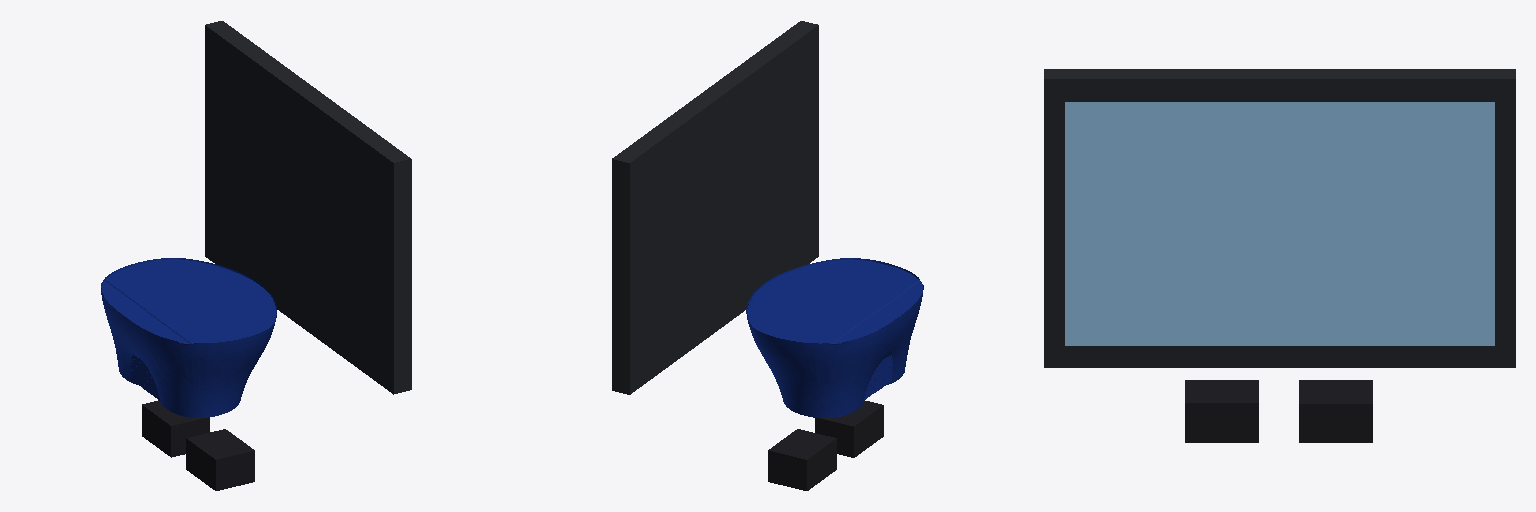
The robot description file, URDF, robot "haetburi":
<?xml version="1.0"?>
<!-- Haetburi biped (v14_xc330_hidden) - generated by tools/build_model.py, do not edit by hand -->
<robot name="haetburi">
  <mujoco>
    <compiler meshdir="." balanceinertia="true" discardvisual="false" strippath="false" fusestatic="false"/>
  </mujoco>
  <material name="display"><color rgba="0.18 0.19 0.21 1"/></material>
  <material name="screen"><color rgba="0.62 0.80 0.95 1"/></material>
  <material name="shell"><color rgba="0.106 0.216 0.541 1"/></material>
  <material name="motor"><color rgba="0.15 0.15 0.17 1"/></material>
  <material name="foot"><color rgba="0.25 0.25 0.28 1"/></material>
  <link name="world"/>
  <joint name="floating_base" type="floating">
    <parent link="world"/><child link="pelvis"/>
    <origin xyz="0 0 0" rpy="0 0 0"/>
  </joint>
  <link name="pelvis">
    <inertial>
      <origin xyz="0.0156311 -5.01055e-05 0.0285884" rpy="0 0 0"/>
      <mass value="0.360675"/>
      <inertia ixx="0.000171552" ixy="-2.34994e-07" ixz="-1.50401e-05" iyy="0.000132527" iyz="-1.56015e-08" izz="0.000224481"/>
    </inertial>
    <visual><origin xyz="0 0 0" rpy="0 0 0"/><geometry><mesh filename="meshes/pelvis.stl"/></geometry><material name="shell"/></visual>
    <visual><origin xyz="0.00880265 0.0245857 0.033" rpy="0 0 0"/><geometry><box size="0.034 0.02 0.026"/></geometry><material name="motor"/></visual>
    <visual><origin xyz="0.00879735 -0.024889 0.033" rpy="0 0 0"/><geometry><box size="0.034 0.02 0.026"/></geometry><material name="motor"/></visual>
    <collision><origin xyz="0.0074988 -0.000146911 0.02623" rpy="0 0 0"/><geometry><box size="0.089907 0.119391 0.05246"/></geometry></collision>
  </link>
  <link name="torso">
    <inertial>
      <origin xyz="0.0216135 0.000104354 0.130744" rpy="0 0 0"/>
      <mass value="2.17652"/>
      <inertia ixx="0.0357799" ixy="-0.000105021" ixz="0.00644111" iyy="0.035995" iyz="-0.000101018" izz="0.0196717"/>
    </inertial>
    <visual><origin xyz="0 0 0" rpy="0 0 0"/><geometry><mesh filename="meshes/torso.stl"/></geometry><material name="shell"/></visual>
    <visual><origin xyz="0.0843686 0 0.0406669" rpy="0 0 0"/><geometry><box size="0.011868 0.217236 0.146854"/></geometry><material name="display"/></visual>
    <visual><origin xyz="0.0903026 0 0.0406669" rpy="0 0 0"/><geometry><box size="0.0004 0.198144 0.12384"/></geometry><material name="screen"/></visual>
    <collision><origin xyz="-0.0391719 -1.82352e-06 0.0288995" rpy="0 0 0"/><geometry><box size="0.183869 0.124676 0.122779"/></geometry></collision>
    <collision><origin xyz="0.0478332 0.0965728 0.0582346" rpy="0 0 0"/><geometry><sphere radius="0.0698567"/></geometry></collision>
    <collision><origin xyz="0.0481639 -0.0967208 0.0582346" rpy="0 0 0"/><geometry><sphere radius="0.0697895"/></geometry></collision>
    <collision><origin xyz="-0.00600387 0.000307043 0.117894" rpy="0 0 0"/><geometry><sphere radius="0.119818"/></geometry></collision>
    <collision><origin xyz="-0.010462 -0.000141163 0.173068" rpy="0 0 0"/><geometry><sphere radius="0.138234"/></geometry></collision>
    <collision><origin xyz="-0.0159306 -0.000232984 0.22825" rpy="0 0 0"/><geometry><sphere radius="0.136633"/></geometry></collision>
    <collision><origin xyz="-0.0124975 0.000984204 0.28343" rpy="0 0 0"/><geometry><sphere radius="0.118808"/></geometry></collision>
    <collision><origin xyz="-0.00739515 0.00779025 0.338644" rpy="0 0 0"/><geometry><sphere radius="0.0846824"/></geometry></collision>
    <collision><origin xyz="-0.0135526 -0.00257485 0.393809" rpy="0 0 0"/><geometry><sphere radius="0.0491437"/></geometry></collision>
    <collision><origin xyz="0.0843686 0 0.0406669" rpy="0 0 0"/><geometry><box size="0.011868 0.217236 0.146854"/></geometry></collision>
  </link>
  <link name="leg_l">
    <inertial>
      <origin xyz="-0.000426212 -0.000153725 -0.0205374" rpy="0 0 0"/>
      <mass value="0.0268786"/>
      <inertia ixx="7.64117e-06" ixy="-6.15894e-09" ixz="1.32393e-07" iyy="5.95425e-06" iyz="6.0226e-08" izz="6.6853e-06"/>
    </inertial>
    <visual><origin xyz="0 0 0" rpy="0 0 0"/><geometry><mesh filename="meshes/leg_l.stl"/></geometry><material name="shell"/></visual>
    <collision><origin xyz="-5.688e-07 -7.84141e-06 -0.00614087" rpy="0 0 0"/><geometry><box size="0.0468988 0.0429672 0.0122817"/></geometry></collision>
  </link>
  <link name="foot_l">
    <inertial>
      <origin xyz="0.000534726 0.0073892 -0.00232158" rpy="0 0 0"/>
      <mass value="0.0798228"/>
      <inertia ixx="2.03828e-05" ixy="-9.25168e-07" ixz="-2.06221e-07" iyy="2.76056e-05" iyz="-1.38617e-06" izz="3.29687e-05"/>
    </inertial>
    <visual><origin xyz="0 0 0" rpy="0 0 0"/><geometry><mesh filename="meshes/foot_l.stl"/></geometry><material name="shell"/></visual>
    <visual><origin xyz="0 0.0088 5.38845e-19" rpy="0 0 0"/><geometry><box size="0.026 0.034 0.02"/></geometry><material name="motor"/></visual>
    <collision><origin xyz="0 0 0" rpy="0 0 0"/><geometry><mesh filename="meshes/foot_l.stl"/></geometry></collision>
  </link>
  <link name="leg_r">
    <inertial>
      <origin xyz="-0.0003185 0.000176986 -0.0204253" rpy="0 0 0"/>
      <mass value="0.0269909"/>
      <inertia ixx="7.71633e-06" ixy="-2.6103e-08" ixz="1.03703e-07" iyy="5.96314e-06" iyz="-6.94008e-08" izz="6.73786e-06"/>
    </inertial>
    <visual><origin xyz="0 0 0" rpy="0 0 0"/><geometry><mesh filename="meshes/leg_r.stl"/></geometry><material name="shell"/></visual>
    <collision><origin xyz="1.35836e-06 1.24311e-05 -0.00606212" rpy="0 0 0"/><geometry><box size="0.0468608 0.0430498 0.0121242"/></geometry></collision>
  </link>
  <link name="foot_r">
    <inertial>
      <origin xyz="0.000868835 -0.00717632 -0.00236172" rpy="0 0 0"/>
      <mass value="0.0796564"/>
      <inertia ixx="2.02028e-05" ixy="1.0119e-06" ixz="-2.24454e-07" iyy="2.75114e-05" iyz="1.34772e-06" izz="3.28357e-05"/>
    </inertial>
    <visual><origin xyz="0 0 0" rpy="0 0 0"/><geometry><mesh filename="meshes/foot_r.stl"/></geometry><material name="shell"/></visual>
    <visual><origin xyz="0 -0.0088 5.38845e-19" rpy="0 0 0"/><geometry><box size="0.026 0.034 0.02"/></geometry><material name="motor"/></visual>
    <collision><origin xyz="0 0 0" rpy="0 0 0"/><geometry><mesh filename="meshes/foot_r.stl"/></geometry></collision>
  </link>
  <joint name="waist_fixed" type="fixed">
    <parent link="pelvis"/><child link="torso"/>
    <origin xyz="0 0 0.05246" rpy="0 0 0"/>
  </joint>
  <joint name="hip_yaw_l" type="revolute">
    <parent link="pelvis"/><child link="leg_l"/>
    <origin xyz="2.6481e-06 0.0245857 0" rpy="0 0 0"/>
    <axis xyz="0 0 1"/>
    <limit lower="-0.523599" upper="0.523599" effort="1.0" velocity="7.43"/>
    <dynamics damping="0.07142857142857144" friction="0.028571428571428574"/>
  </joint>
  <joint name="hip_yaw_r" type="revolute">
    <parent link="pelvis"/><child link="leg_r"/>
    <origin xyz="-2.6481e-06 -0.024889 0" rpy="0 0 0"/>
    <axis xyz="0 0 1"/>
    <limit lower="-0.523599" upper="0.523599" effort="1.0" velocity="7.43"/>
    <dynamics damping="0.07142857142857144" friction="0.028571428571428574"/>
  </joint>
  <joint name="ankle_roll_l" type="revolute">
    <parent link="leg_l"/><child link="foot_l"/>
    <origin xyz="0.0116813 -0.00742343 -0.03924" rpy="0 0 0"/>
    <axis xyz="1 0 0"/>
    <limit lower="-0.261799" upper="0.261799" effort="1.0" velocity="7.43"/>
    <dynamics damping="0.07142857142857144" friction="0.028571428571428574"/>
  </joint>
  <joint name="ankle_roll_r" type="revolute">
    <parent link="leg_r"/><child link="foot_r"/>
    <origin xyz="0.0109417 0.00699945 -0.03924" rpy="0 0 0"/>
    <axis xyz="1 0 0"/>
    <limit lower="-0.261799" upper="0.261799" effort="1.0" velocity="7.43"/>
    <dynamics damping="0.07142857142857144" friction="0.028571428571428574"/>
  </joint>
</robot>

--- Render facts (derived) ---
Views: 3 orthographic renders of the robot side by side, from view 1: azimuth 30°, elevation 25°; view 2: azimuth 150°, elevation 25°; view 3: azimuth 270°, elevation 25°.
Model haetburi with 7 links and 6 joints (4 revolute, 1 fixed, 1 floating), rooted at world, posed all joints at 0.
Visible links, largest first — view 1: torso, pelvis, foot_r, foot_l; view 2: torso, pelvis, foot_l, foot_r; view 3: torso, foot_l, foot_r.
Boxes of the visible links, left/top/right/bottom form: torso: left=205, top=21, right=411, bottom=394; pelvis: left=101, top=258, right=276, bottom=417; foot_r: left=186, top=429, right=254, bottom=490; foot_l: left=142, top=400, right=209, bottom=457; torso: left=612, top=21, right=818, bottom=394; pelvis: left=746, top=258, right=923, bottom=417; foot_l: left=768, top=429, right=836, bottom=490; foot_r: left=815, top=400, right=883, bottom=457; torso: left=1044, top=69, right=1515, bottom=367; foot_l: left=1299, top=380, right=1372, bottom=442; foot_r: left=1185, top=380, right=1258, bottom=442.
Bounding box of the posed robot: 0.128 × 0.2172 × 0.2158 m (x, y, z).
Meshes: 6 distinct files referenced, 1 mesh visuals loaded (1 binary STL); not drawn: 5 (reference not matched to a file when rendering).
